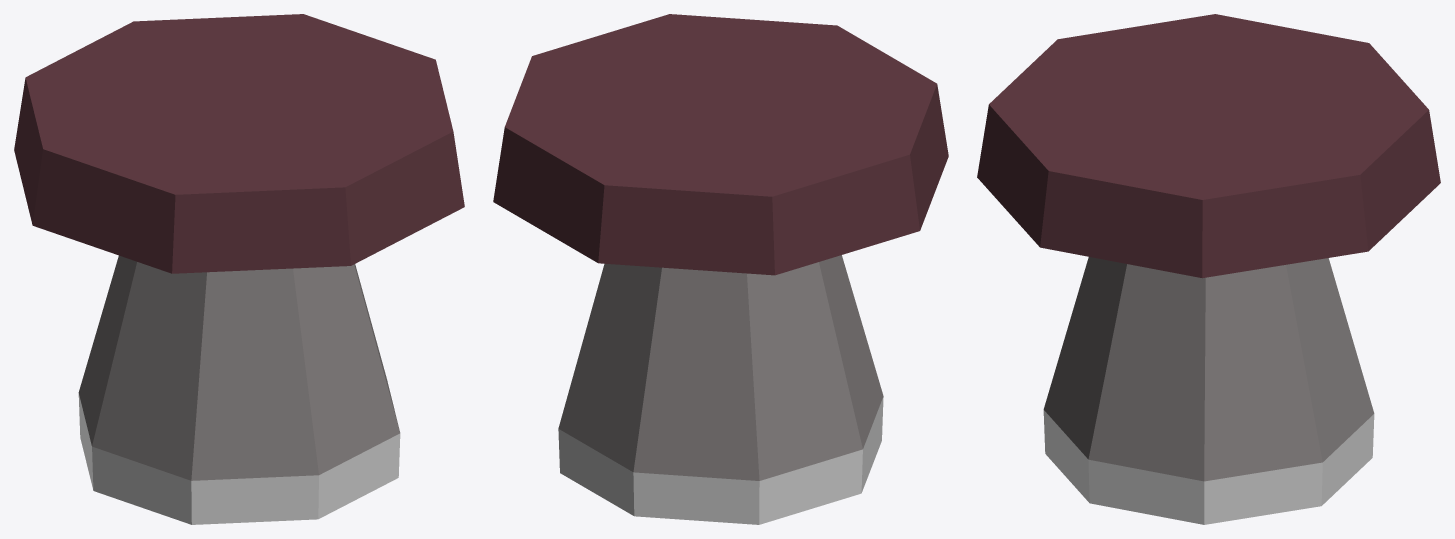
File: scifi-chair-round.fbx
3 renders of one model, left to right at view 1: azimuth 30°, elevation 25°; view 2: azimuth 150°, elevation 25°; view 3: azimuth 270°, elevation 25°, orthographic.
Visible parts, largest first — view 1: scifi-chair-round; view 2: scifi-chair-round; view 3: scifi-chair-round.
Boxes of the visible parts, <box> form: scifi-chair-round: <box>14,14,464,524</box>; scifi-chair-round: <box>493,14,948,524</box>; scifi-chair-round: <box>977,14,1440,524</box>.
Size of the model in its own units: 0.6312 by 0.5236 by 0.6312.
